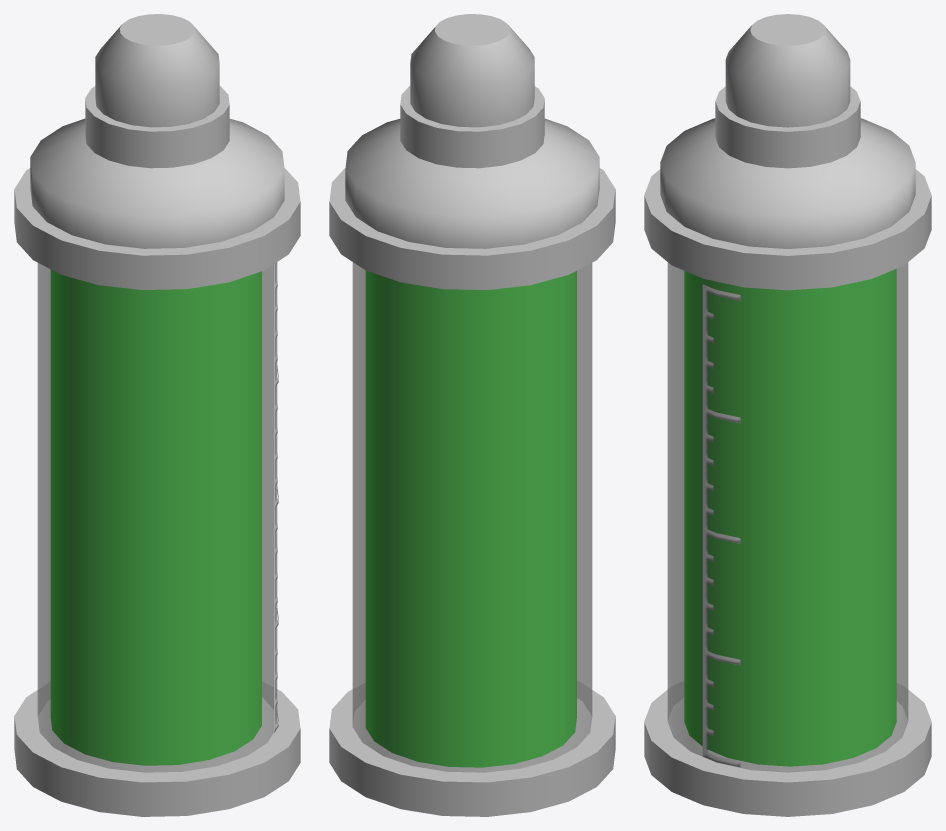
File: wuqi_a.fbx
The picture shows the model from 3 angles, left to right: view 1: azimuth 30°, elevation 25°; view 2: azimuth 150°, elevation 25°; view 3: azimuth 270°, elevation 25°; orthographic projection.
Visible parts, largest first — view 1: boli, youqi, jinshu, kd1; view 2: boli, youqi, jinshu; view 3: boli, youqi, jinshu, kd1.
Part boxes in pixels (<box>): boli: <box>37,262,277,772</box>; youqi: <box>50,270,261,765</box>; jinshu: <box>14,14,300,816</box>; kd1: <box>274,262,278,733</box>; boli: <box>352,262,592,772</box>; youqi: <box>365,270,576,767</box>; jinshu: <box>329,14,615,816</box>; boli: <box>667,262,908,772</box>; youqi: <box>684,269,896,766</box>; jinshu: <box>644,14,931,816</box>; kd1: <box>702,284,740,767</box>.
Size of the model in its own units: 18.75 by 52.26 by 18.75.
